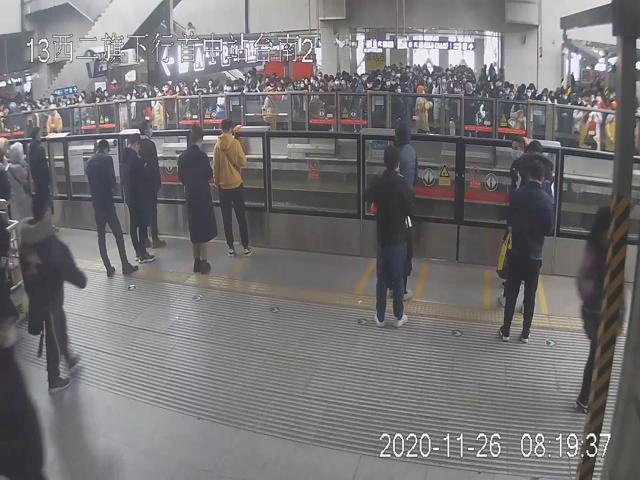person: (16, 192, 87, 393), (498, 158, 555, 342), (366, 147, 410, 329), (84, 140, 137, 277), (178, 123, 214, 275), (214, 119, 253, 258)
